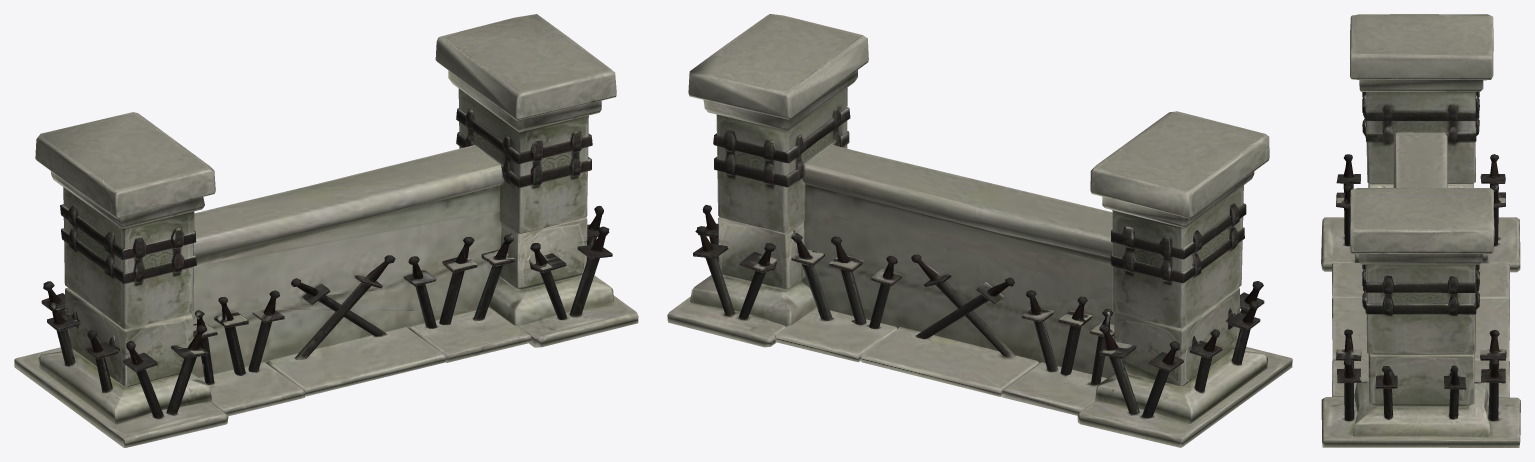
The model's file is pv_muro_medio.glb.
3 views of the same model, side by side, from view 1: azimuth 30°, elevation 25°; view 2: azimuth 150°, elevation 25°; view 3: azimuth 270°, elevation 25° (orthographic). The views are drawn at different scales.
Parts seen in each view (by area): view 1: Mesh_0; view 2: Mesh_0; view 3: Mesh_0.
Boxes of the visible parts, x1,y1,x2,y2 form: Mesh_0: (14, 14, 638, 447); Mesh_0: (667, 14, 1292, 447); Mesh_0: (1321, 14, 1520, 447).
Size of the model in its own units: 1 by 0.4561 by 0.3799.
1 material, 1 textured.
